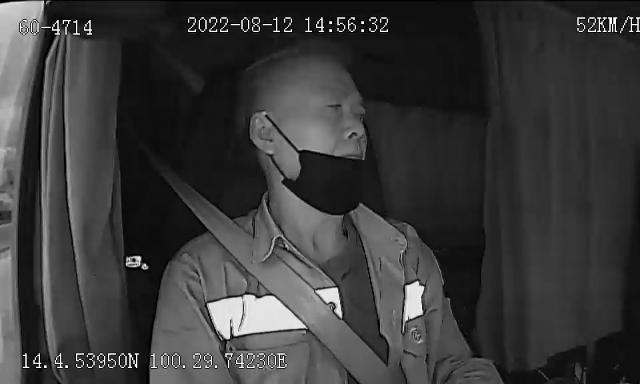Seatbelt: (165, 168, 392, 384)
